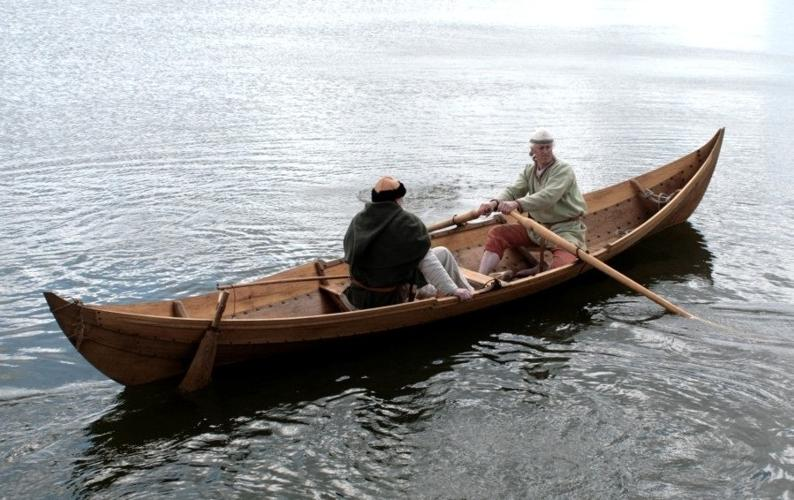person: (479, 128, 585, 277)
